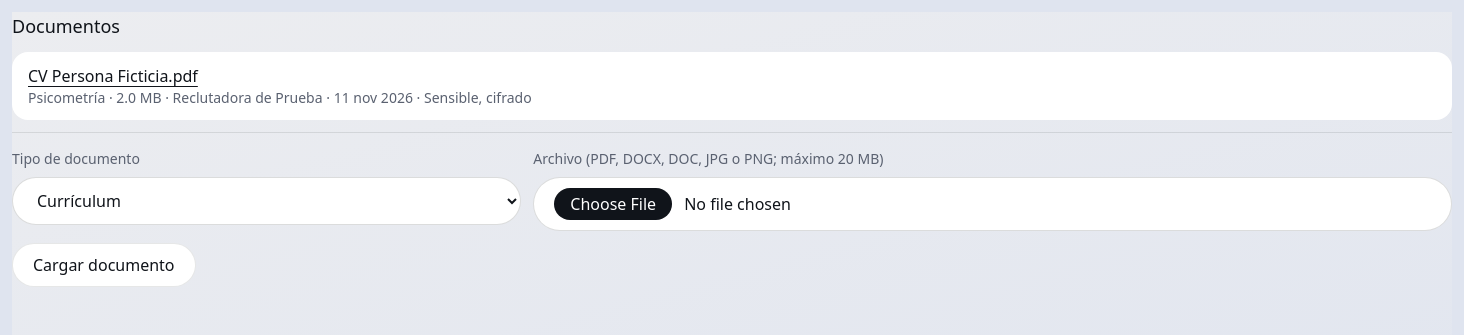
Scenario: VacancyDocuments › avisa que los documentos sensibles se guardan cifrados
Expected: the text "se guarda cifrado" is not shown
Select "Estudio socioeconómico" in the dropdown labelled "Tipo de documento" at (267, 201), box [12,177,521,225]
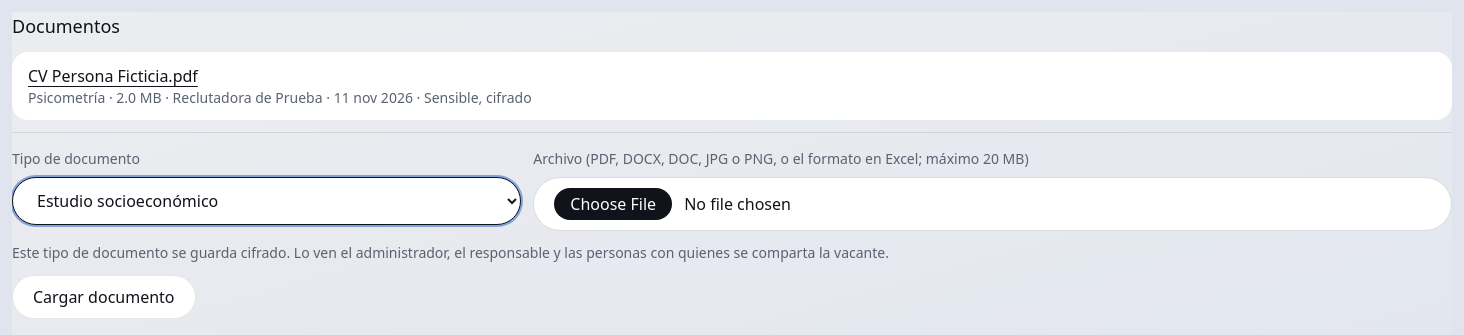
Expected: the text "se guarda cifrado. Lo ven el administrador, el responsable y" is shown, [12,243,889,262]
